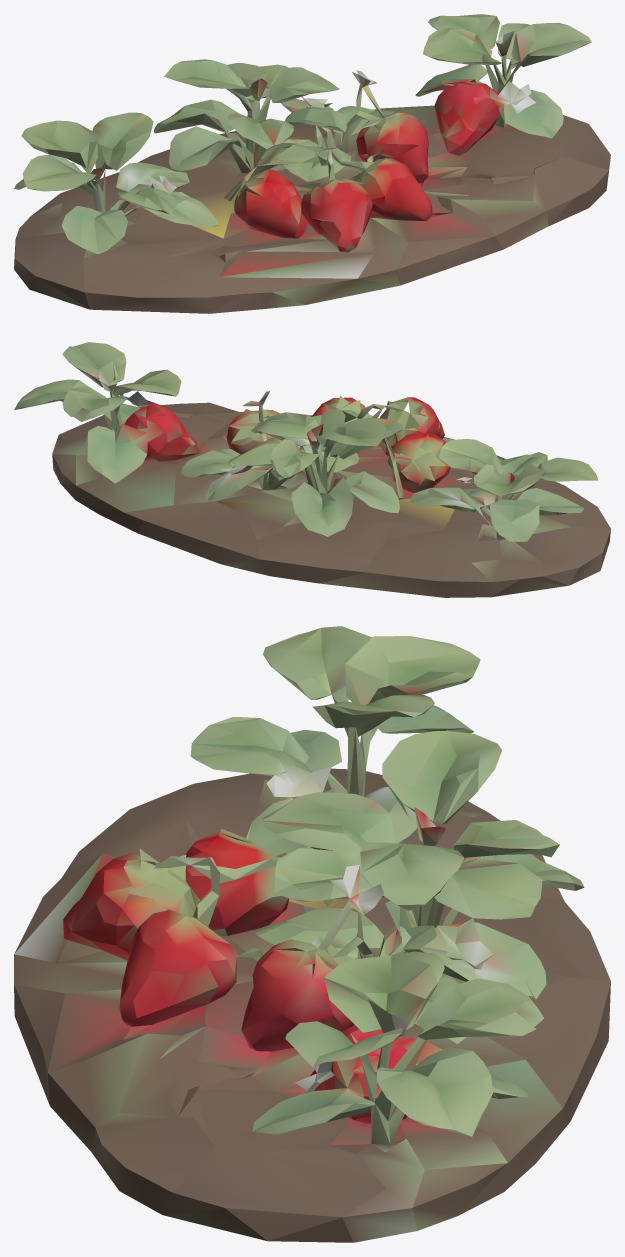
Rendered from strawberries.glb.
3 views of the same model, one above another, from view 1: azimuth 30°, elevation 25°; view 2: azimuth 150°, elevation 25°; view 3: azimuth 270°, elevation 25° (orthographic). The views are drawn at different scales.
Parts seen in each view (by area): view 1: geometry_0; view 2: geometry_0; view 3: geometry_0.
Boxes of the visible parts, x1,y1,x2,y2 form: geometry_0: (14, 14, 610, 313); geometry_0: (14, 342, 610, 597); geometry_0: (14, 626, 610, 1242).
Size of the model in its own units: 2.37 by 0.5195 by 1.3.
